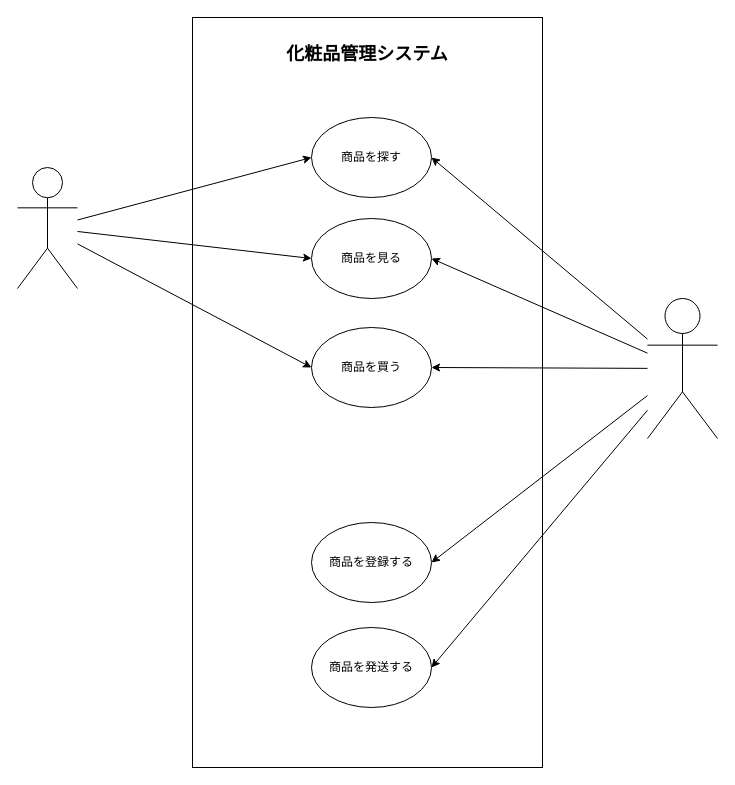
Image size: 735x785. Some labels were removed from this diagram. Here are the shapes that lost their labels. From the top down, the centre of each, then its label:
point (47, 227): 購入者
point (682, 368): 管理者
